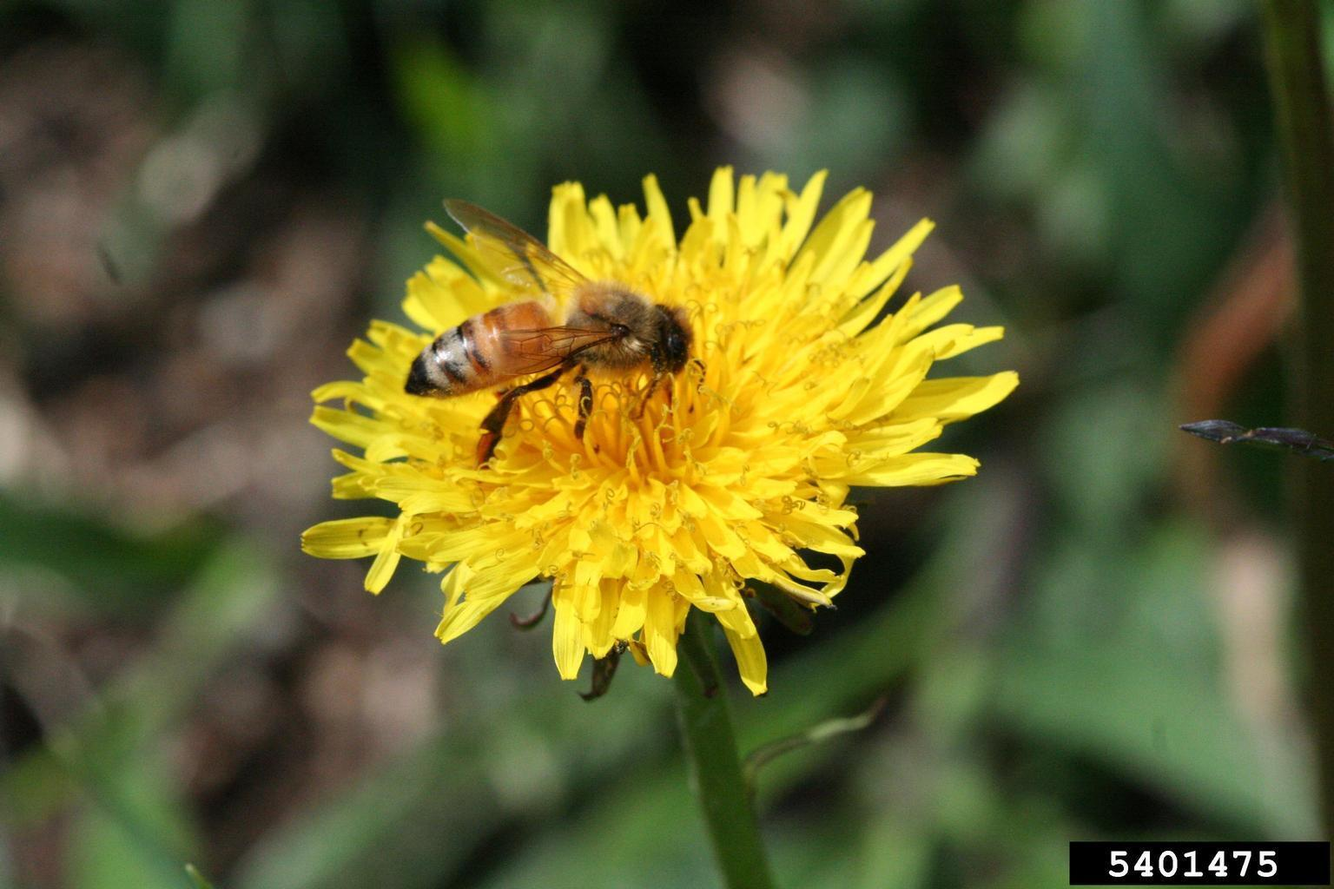worker-bee: (405, 200, 691, 464)
